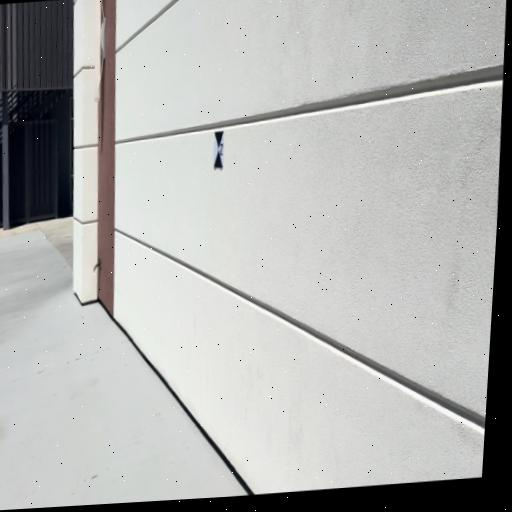target7: (214, 131, 225, 169)
